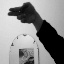h: (7, 1, 38, 24)
